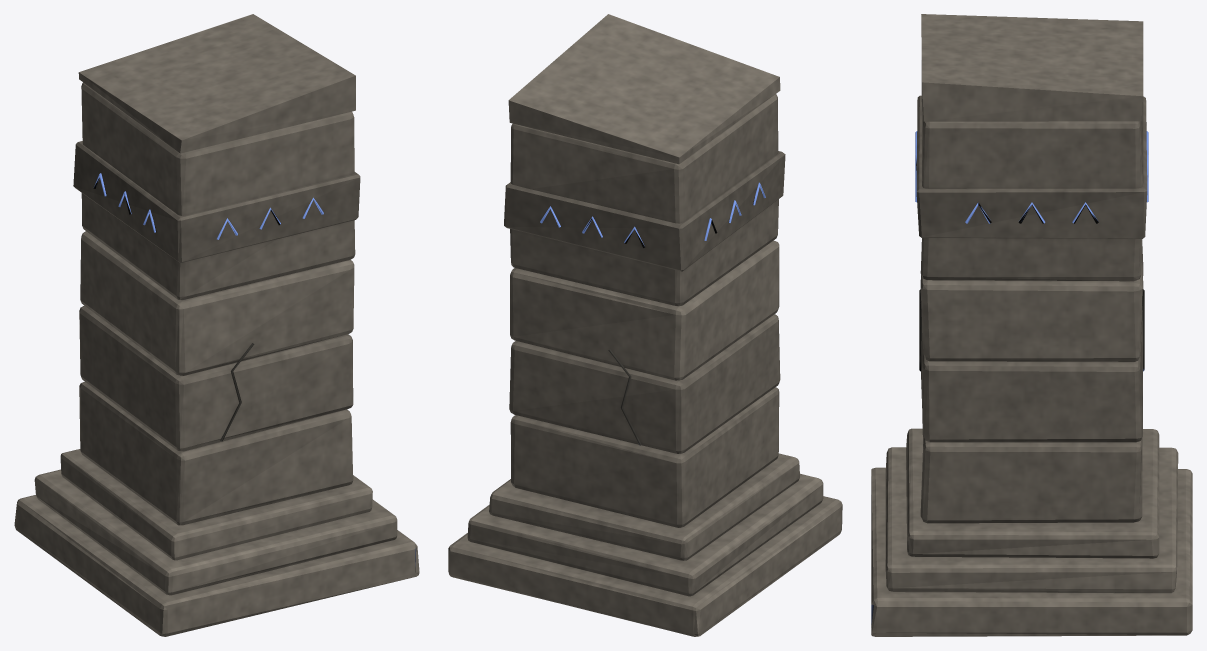
The model's file is arena-broken-pillar.glb.
The picture shows the model from 3 angles, left to right: view 1: azimuth 30°, elevation 25°; view 2: azimuth 150°, elevation 25°; view 3: azimuth 270°, elevation 25°; orthographic projection. The views are drawn at different scales.
Parts seen in each view (by area): view 1: arena-broken-pillar; view 2: arena-broken-pillar; view 3: arena-broken-pillar.
Part boxes in pixels (x1,y1,x2,y2): arena-broken-pillar: (14, 14, 419, 636); arena-broken-pillar: (448, 14, 842, 636); arena-broken-pillar: (871, 14, 1192, 636).
Size of the model in its own units: 1.2 by 2.2 by 1.2.
1 material, 1 textured.
